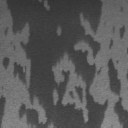red iron: (2, 0, 108, 128), (108, 58, 128, 128), (0, 94, 5, 128), (119, 25, 126, 38), (110, 40, 114, 50), (120, 6, 124, 12), (126, 46, 128, 55)
